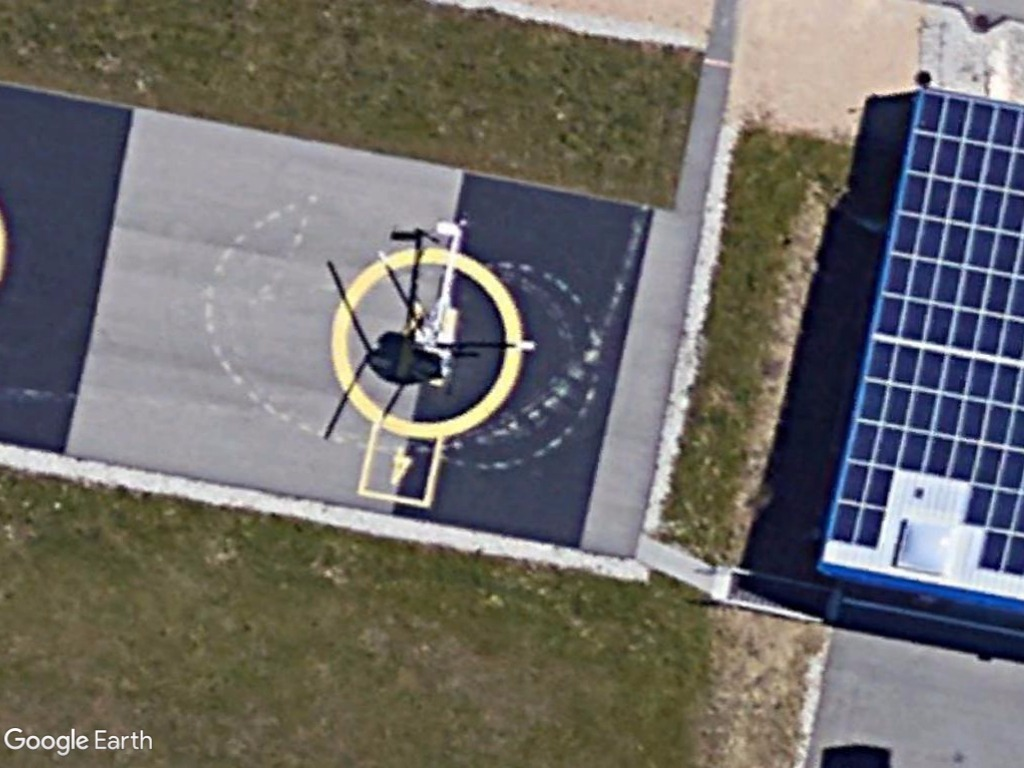helicopter: (366, 210, 540, 430)
